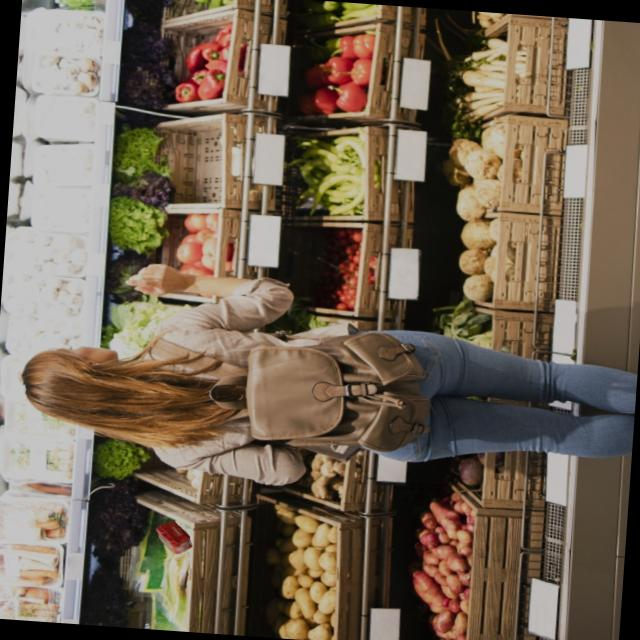mate bag: (152, 516, 194, 556)
